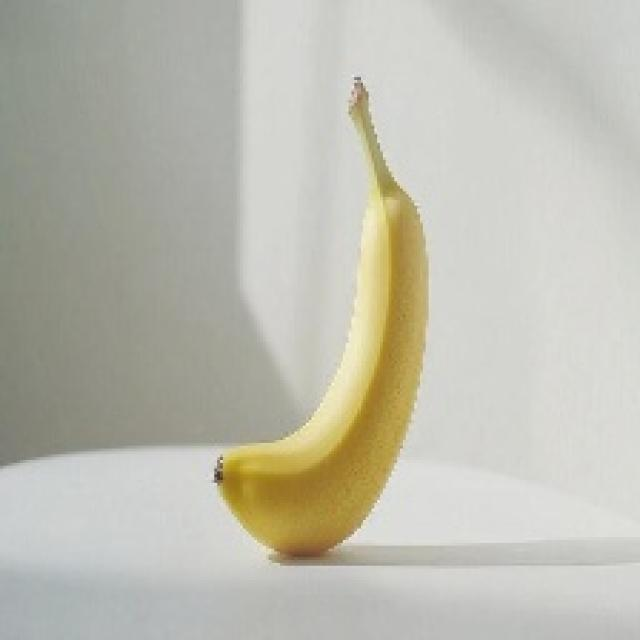Banana: (212, 74, 428, 557)
